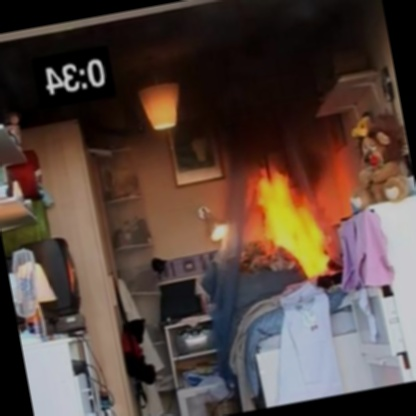fire: (229, 141, 357, 289)
